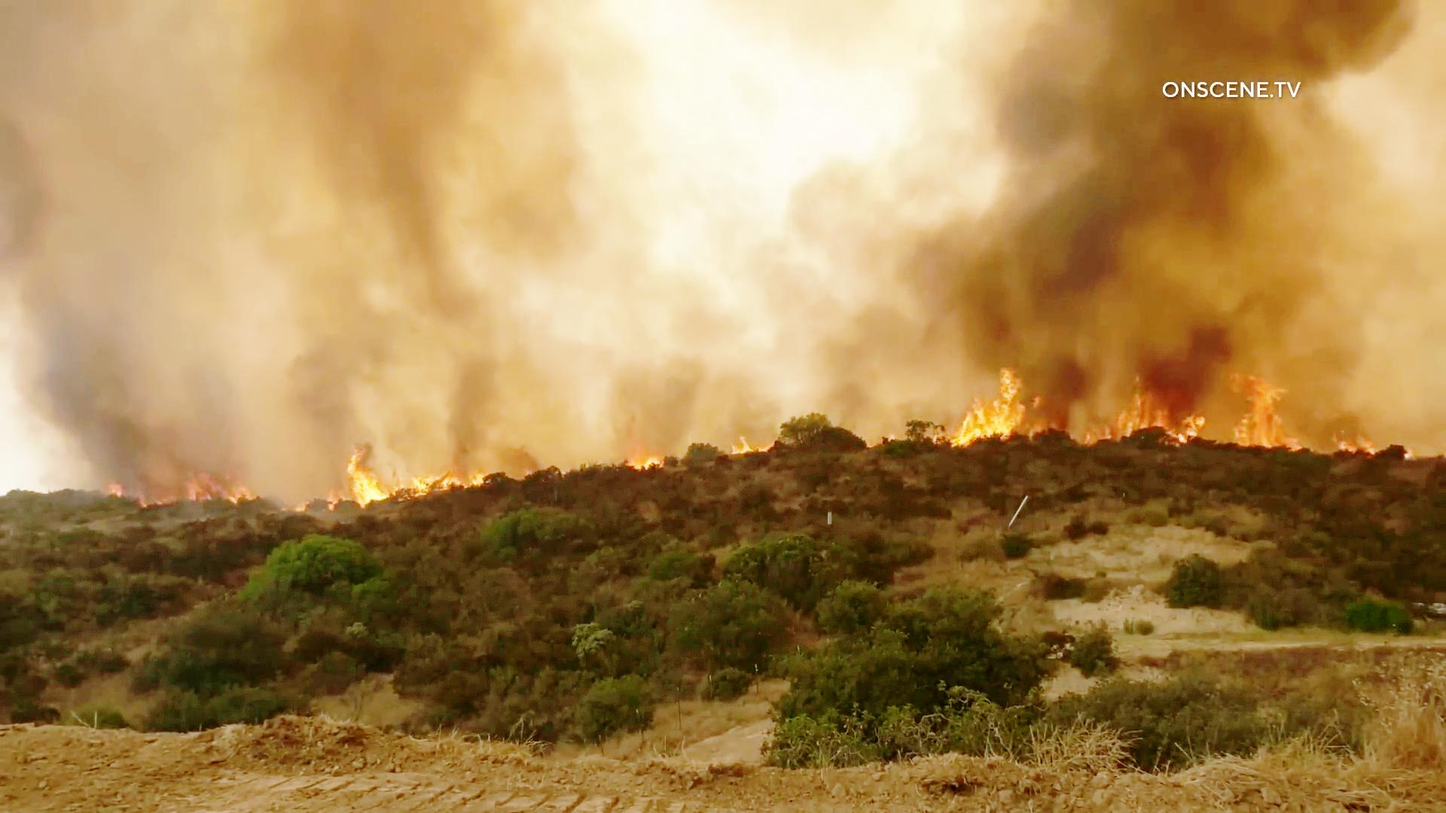fire: (1100, 367, 1216, 449), (949, 362, 1049, 457), (1228, 365, 1300, 454), (330, 426, 400, 514)
smoke: (10, 102, 240, 454), (930, 157, 1242, 342)
